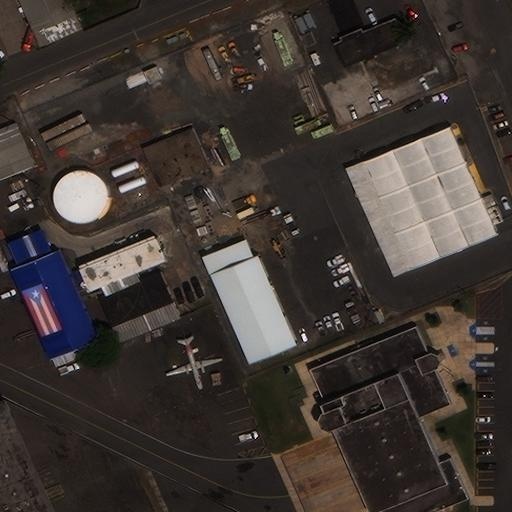Medium Civil Transport: (166, 337, 223, 389)
